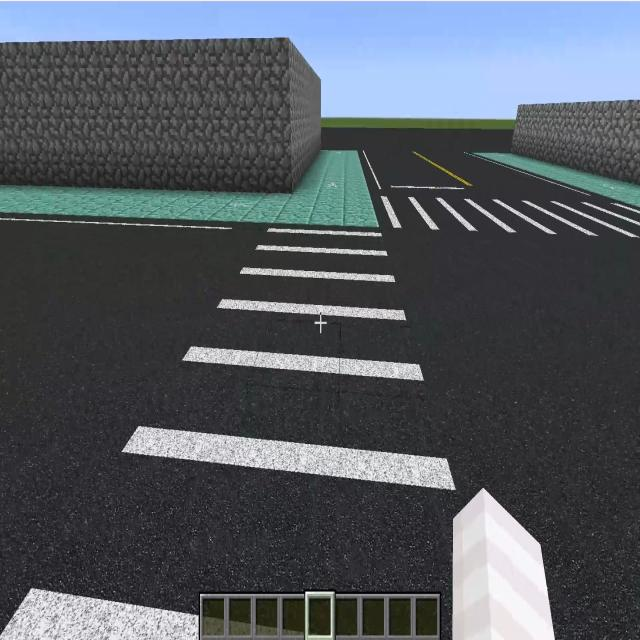crosswalk: (3, 226, 480, 639), (376, 193, 640, 246)
road: (0, 219, 262, 608), (392, 236, 640, 639), (322, 127, 573, 192)
sidewalk: (0, 150, 378, 227), (471, 153, 640, 212)
